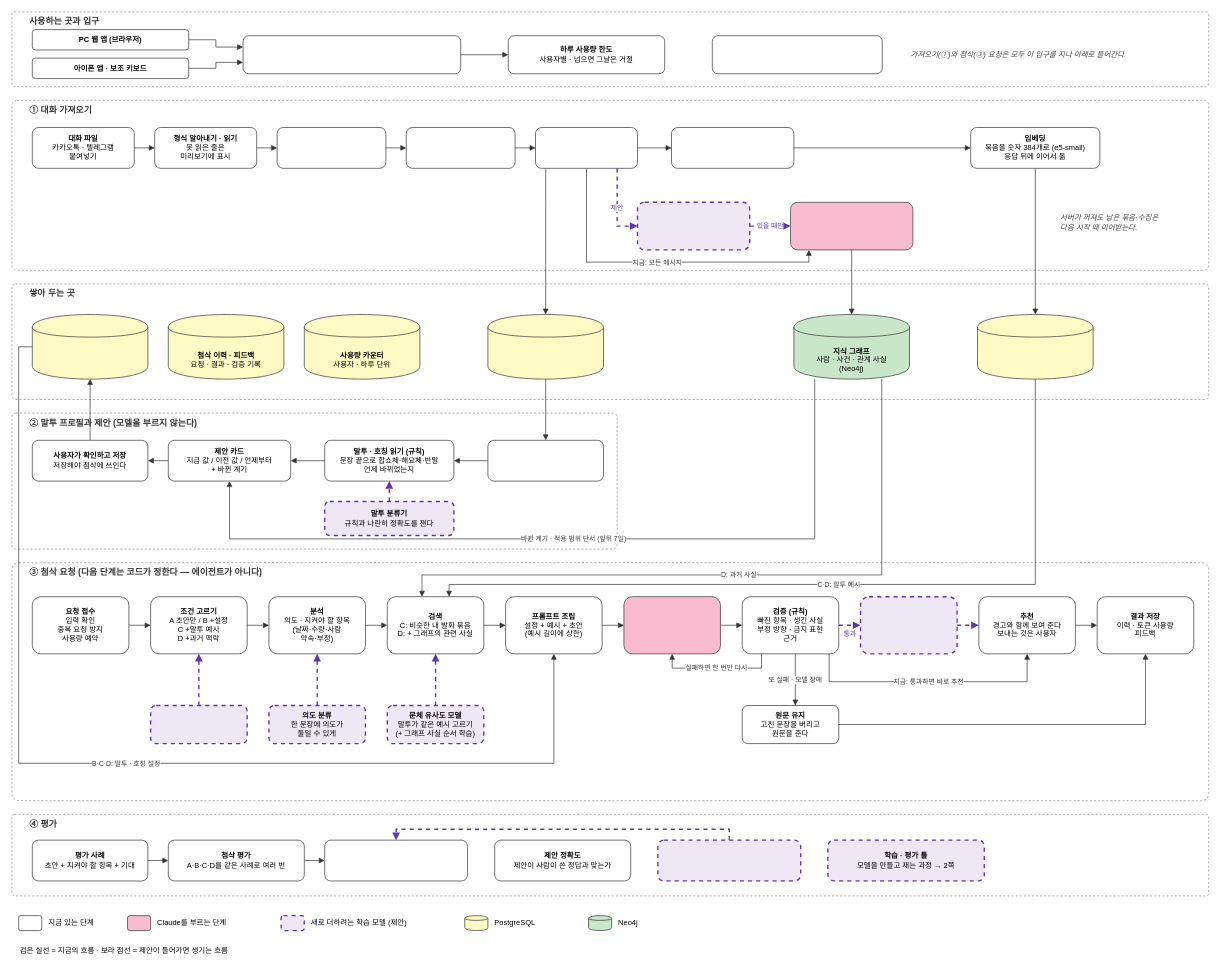
This 1221x972 diagram has some shape labels left out. Each missing label, with the centre of its shape:
"API 입구 로그인 확인 · 요청 횟수 제한 · 본문 크기 제한" goes at [351,54].
"개인정보 가림 전화번호·이메일 같은 패턴 (이름·주소는 못 가림)" goes at [331,147].
"결과 표 통과율 · 원문 유지 · 토큰 지연 · 검색 적중" goes at [396,860].
"관리자 화면 숫자만 본다 (대화 문장은 안 보임)" goes at [797,54].
"그래프 수집 시간 순으로 한 건씩 · 메시지당 모델 8~9회 · 3번 실패하면 보류" goes at [851,226].
"내 메시지 모으기 이 상대에게 보낸 것만" goes at [545,460].
"메시지 누가 · 언제 · 무슨 말" goes at [545,346].
"메시지 저장 여기까지는 요청 안에서 끝냄" goes at [586,147].
"문체 묶음 + 벡터 내가 이 상대에게 한 말" goes at [1035,346].
"문체 묶음 만들기 내 연속 발화 6건·600자씩 + 바로 앞 맥락" goes at [732,147].
"문체 일치 점수 문체 유사도 모델로 자동 채점" goes at [729,860].
"상대별 설정 말투 단계 · 호칭 · 금지 표현" goes at [90,346].
"생성 Claude가 고쳐 쓴다 모델이 일하는 유일한 단계" goes at [671,625].
"수집 전 거르기 그래프에 넣을 사실이 있는 메시지인가" goes at [693,225].
"조건 선택기 과거 맥락이 필요한 초안인가" goes at [199,724].
"판정 모델 뜻이 달라졌나 약속·부정이 사라졌나" goes at [908,625].
"화자 지정 · 중복 확인 누가 '나'인지 같은 파일은 건너뜀" goes at [460,147].
